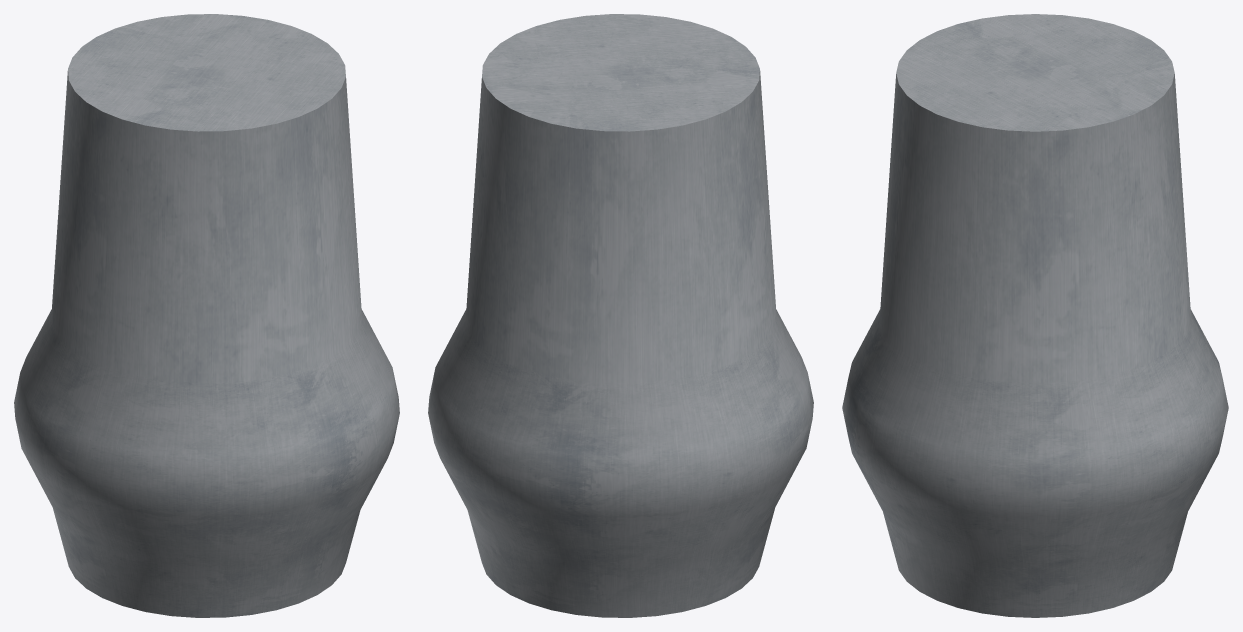
The model's file is UTM_specimen.fbx.
3 views of the same model, side by side, from view 1: azimuth 30°, elevation 25°; view 2: azimuth 150°, elevation 25°; view 3: azimuth 270°, elevation 25° (orthographic).
Visible parts, largest first — view 1: mild_steel; view 2: mild_steel; view 3: mild_steel.
Part boxes in pixels (<box>): mild_steel: <box>14,14,399,617</box>; mild_steel: <box>428,14,813,617</box>; mild_steel: <box>842,14,1228,617</box>.
Size of the model in its own units: 2.78 by 3.85 by 2.78.
